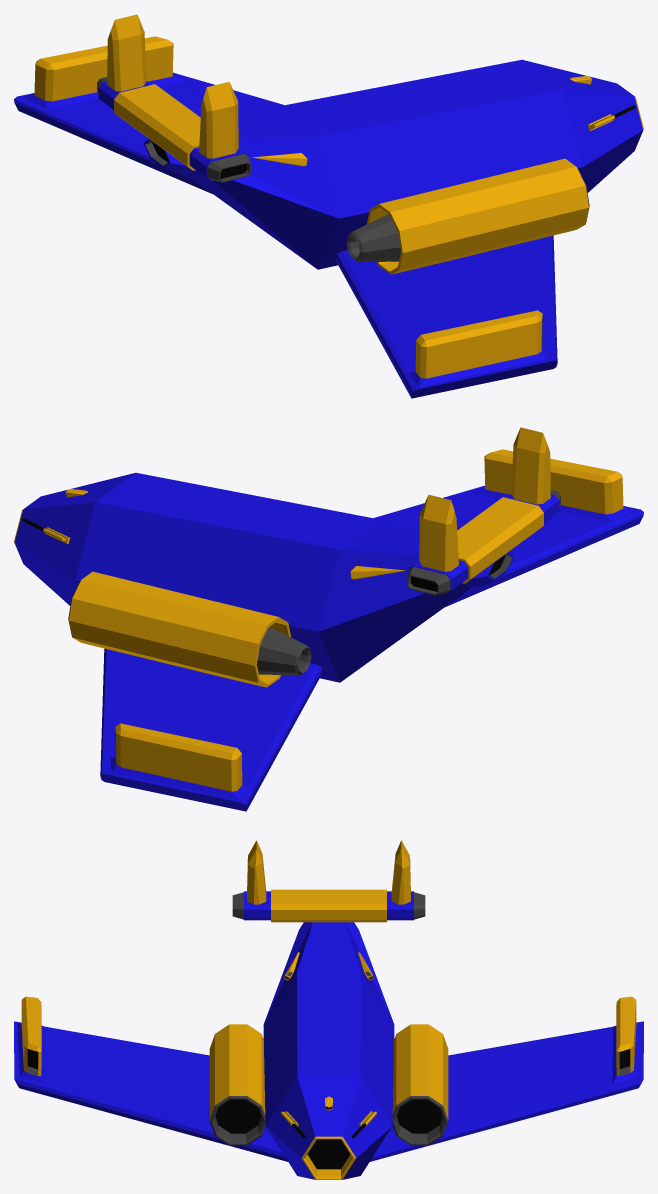
File: Heat of Space Bomber.fbx
The picture shows the model from 3 angles, top to bottom: view 1: azimuth 30°, elevation 25°; view 2: azimuth 150°, elevation 25°; view 3: azimuth 270°, elevation 25°; orthographic projection. The views are drawn at different scales.
Visible parts, largest first — view 1: Bomber; view 2: Bomber; view 3: Bomber.
Boxes of the visible parts, x1,y1,x2,y2 form: Bomber: (14, 14, 643, 398); Bomber: (14, 427, 643, 811); Bomber: (14, 840, 643, 1179).
Size of the model in its own units: 683 by 329 by 993.
